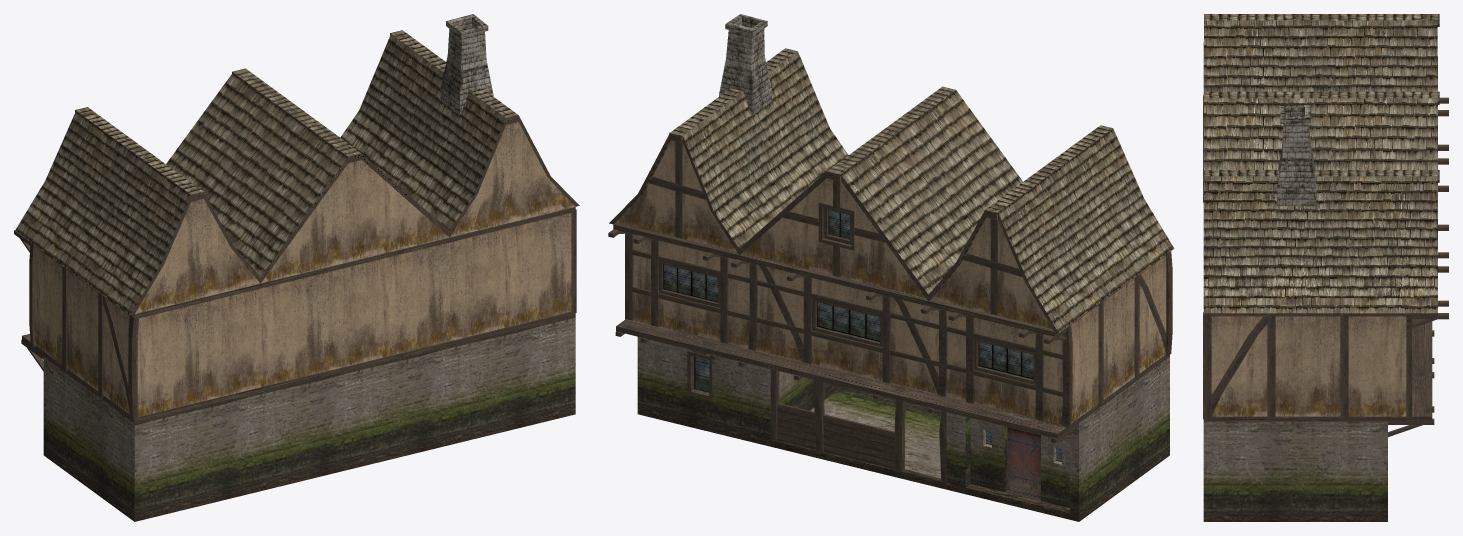
File: f1_house03.dae
The picture shows the model from 3 angles, left to right: view 1: azimuth 30°, elevation 25°; view 2: azimuth 150°, elevation 25°; view 3: azimuth 270°, elevation 25°; orthographic projection.
Parts seen in each view (by area): view 1: f1_Nouse03_Layer1; view 2: f1_Nouse03_Layer1; view 3: f1_Nouse03_Layer1.
Part boxes in pixels (bbox=[...]): f1_Nouse03_Layer1: bbox=[14, 14, 579, 521]; f1_Nouse03_Layer1: bbox=[608, 14, 1174, 521]; f1_Nouse03_Layer1: bbox=[1203, 14, 1448, 521].
Bounding box in the file's own units: 14.28 × 11.35 × 6.66.
